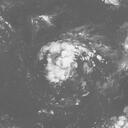cyclone: (38, 41, 91, 86)
